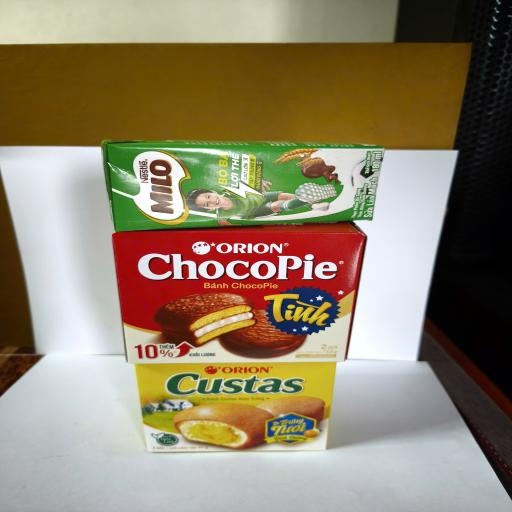chocopie: (112, 221, 368, 364)
custas: (134, 362, 336, 452)
milo: (100, 139, 386, 232)
